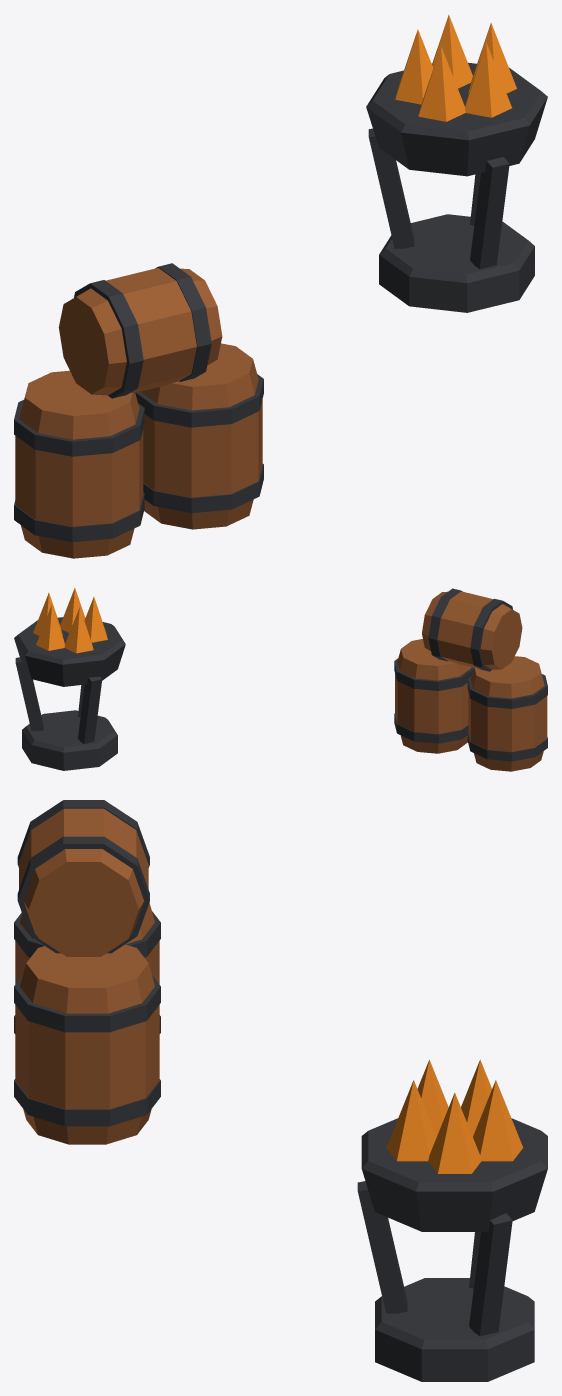
The model's file is MortarDressA2.obj.
3 views of the same model, one above another, from view 1: azimuth 30°, elevation 25°; view 2: azimuth 150°, elevation 25°; view 3: azimuth 270°, elevation 25° (orthographic). The views are drawn at different scales.
Parts seen in each view (by area): view 1: MortarDressA2; view 2: MortarDressA2; view 3: MortarDressA2.
Part boxes in pixels (x1,y1,x2,y2): MortarDressA2: [14, 14, 547, 558]; MortarDressA2: [14, 588, 547, 771]; MortarDressA2: [14, 800, 547, 1381].
Bounding box in the file's own units: 1.19 × 0.42 × 0.7413.
